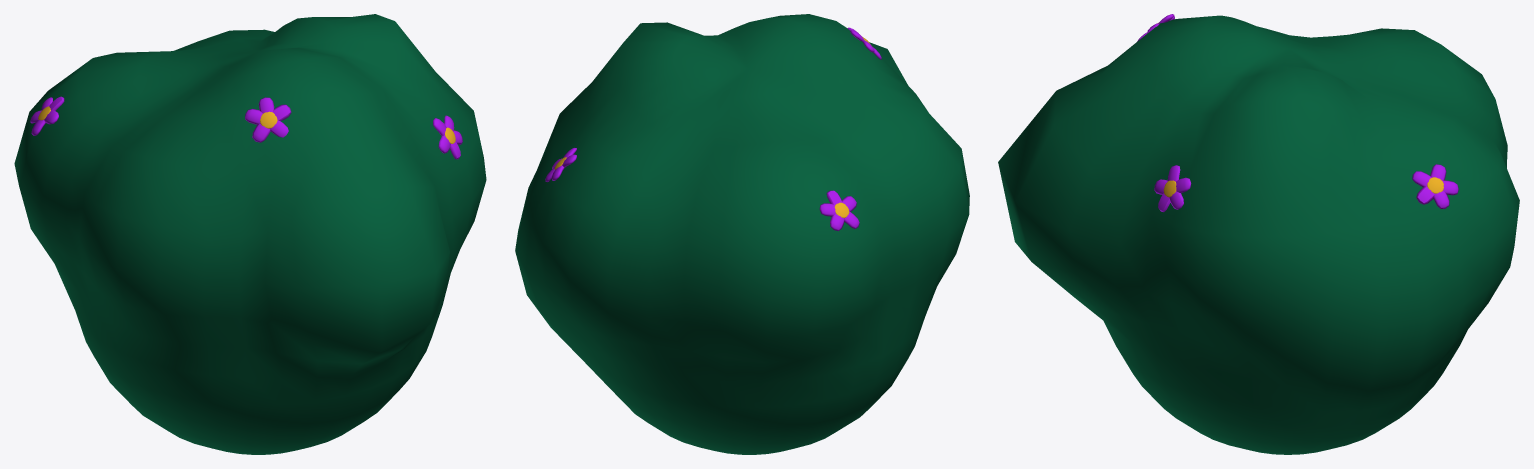
Rendered from Bush1.fbx.
3 views of the same model, side by side, from view 1: azimuth 30°, elevation 25°; view 2: azimuth 150°, elevation 25°; view 3: azimuth 270°, elevation 25° (orthographic). The views are drawn at different scales.
Visible parts, largest first — view 1: Bush_LOD0; view 2: Bush_LOD0; view 3: Bush_LOD0.
Part boxes in pixels (x1,y1,x2,y2): Bush_LOD0: (14, 14, 486, 454); Bush_LOD0: (515, 14, 969, 454); Bush_LOD0: (998, 14, 1519, 454).
Size of what is drawn, in the model's own units: 242 by 238 by 275.
